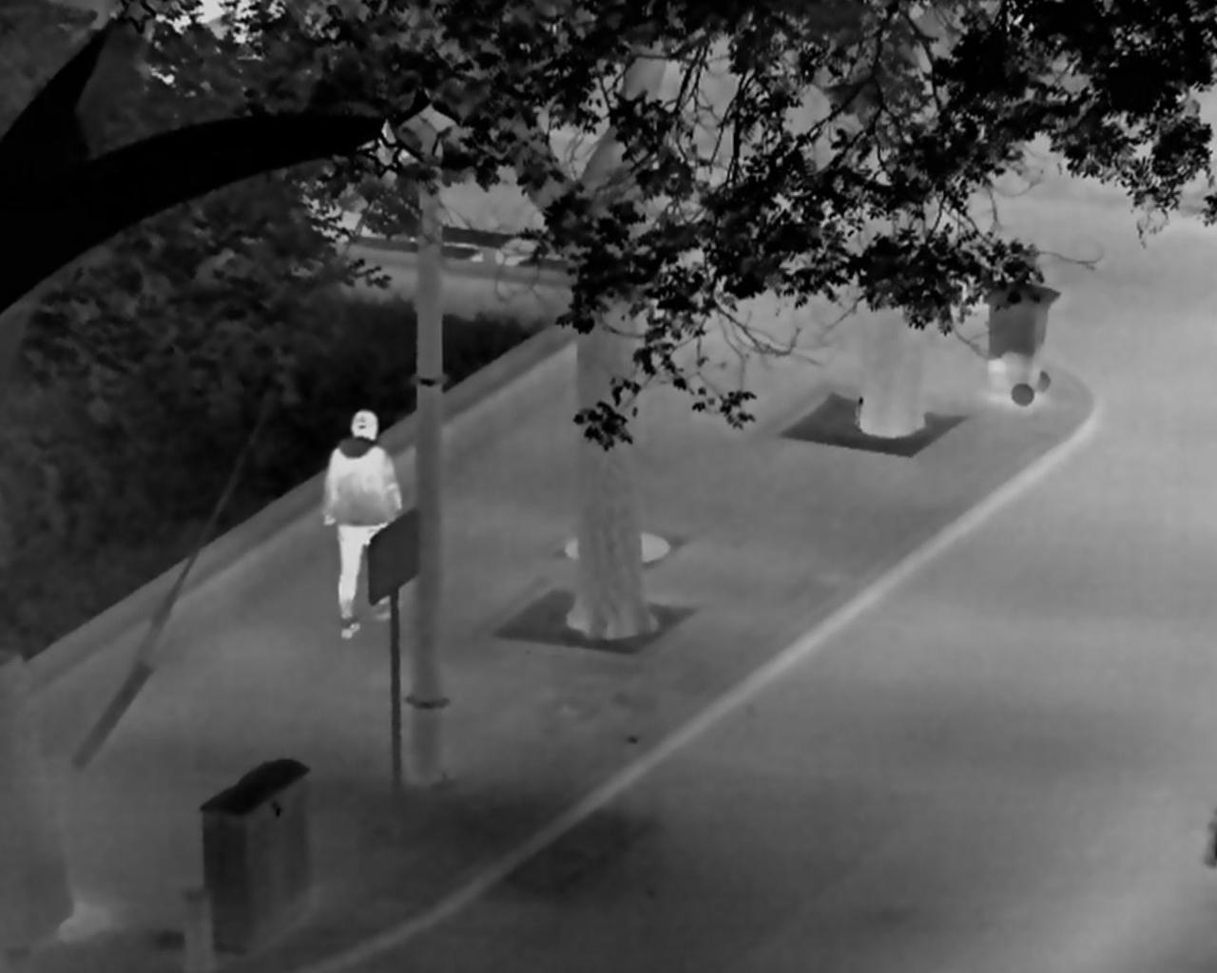person: (322, 409, 406, 639)
